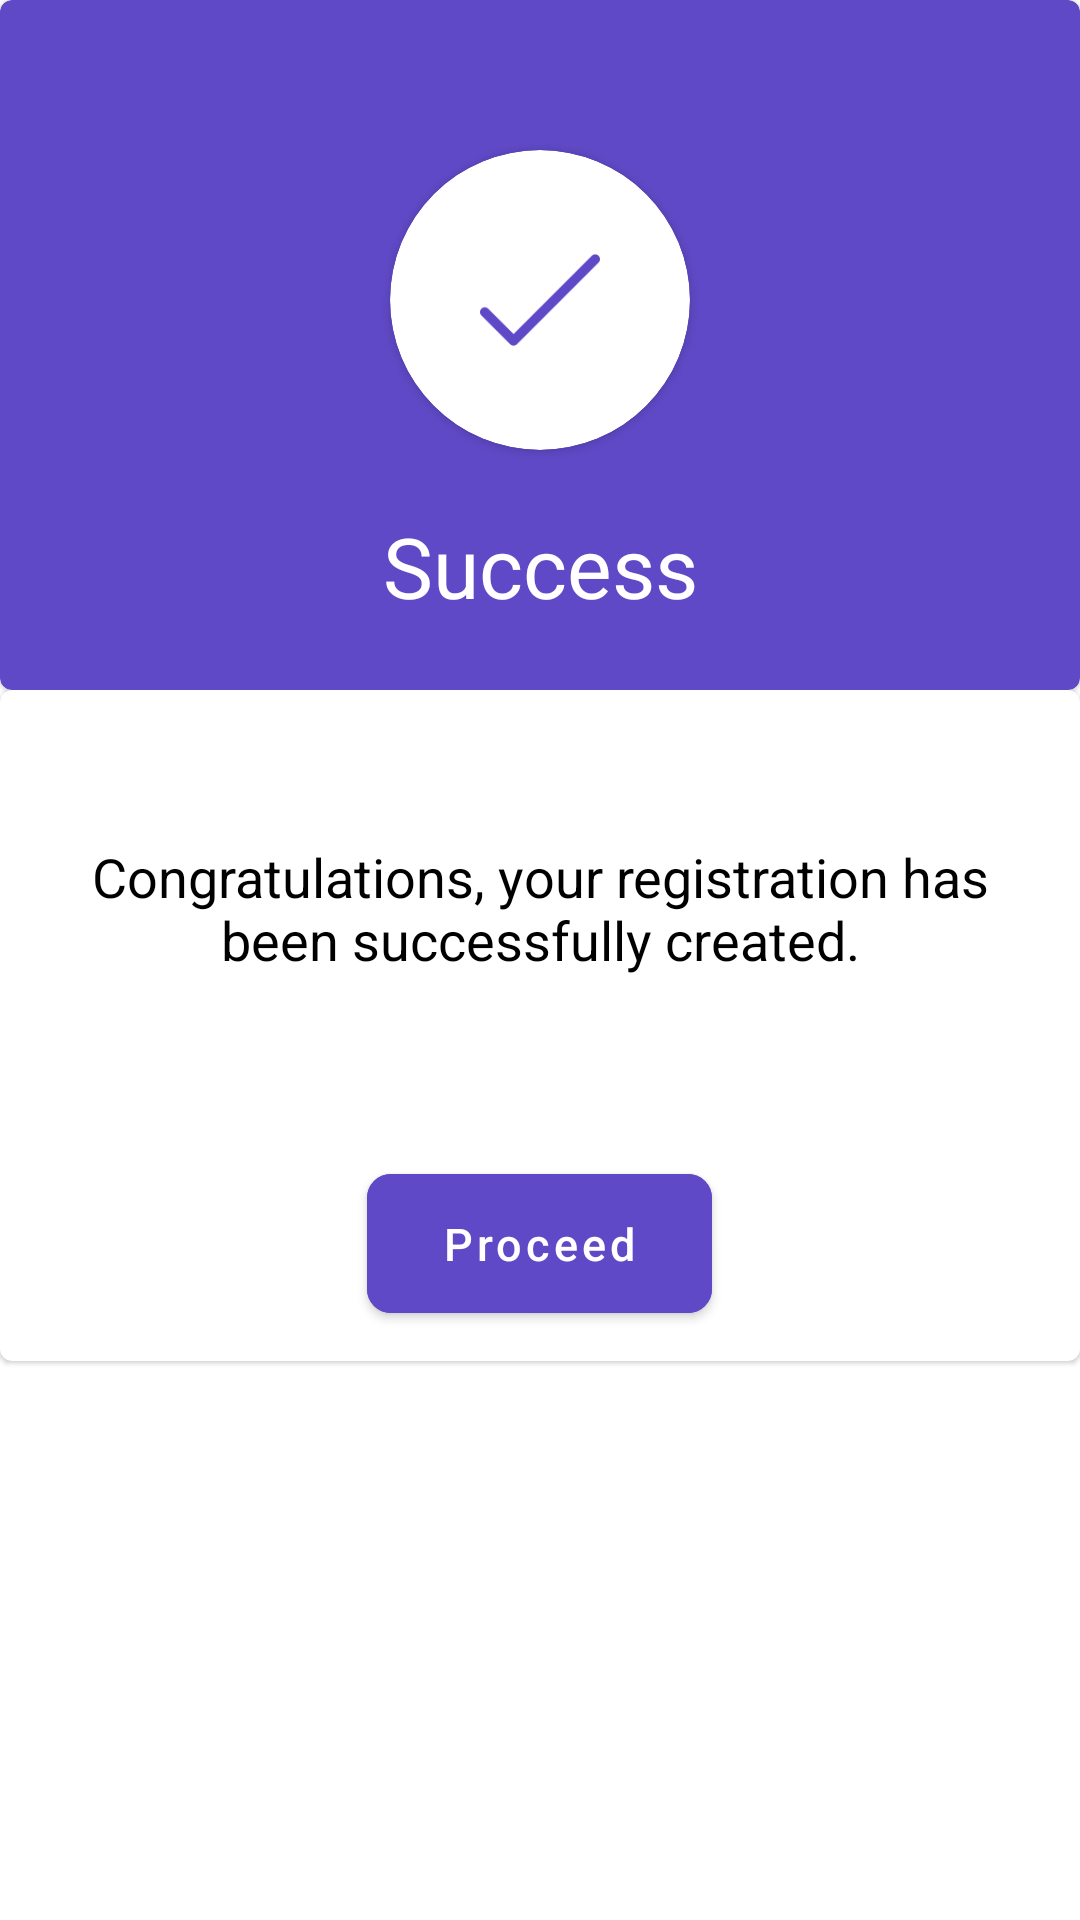

Named icons in this screenshot (1080px x 1920px) and their centers, [x,y]:
check: [540,300]
